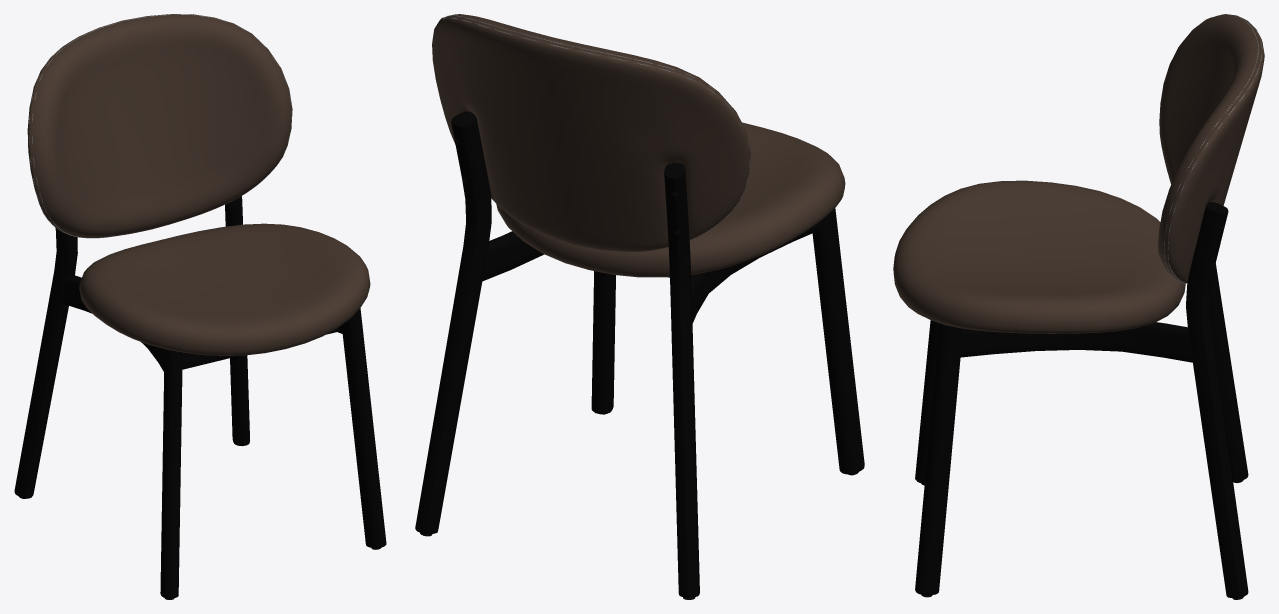
Rendered from chair1.fbx.
The picture shows the model from 3 angles, left to right: view 1: azimuth 30°, elevation 25°; view 2: azimuth 150°, elevation 25°; view 3: azimuth 270°, elevation 25°; orthographic projection. The views are drawn at different scales.
Parts seen in each view (by area): view 1: ines_seat, ines_warp, ines_spline; view 2: ines_seat, ines_warp, ines_spline; view 3: ines_seat, ines_warp.
Boxes of the visible parts, x1=… form: ines_seat: x1=27, y1=14, x2=370, y2=355; ines_warp: x1=14, y1=196, x2=386, y2=598; ines_spline: x1=29, y1=14, x2=291, y2=238; ines_seat: x1=432, y1=14, x2=845, y2=277; ines_warp: x1=415, y1=111, x2=864, y2=597; ines_spline: x1=443, y1=15, x2=749, y2=251; ines_seat: x1=893, y1=14, x2=1264, y2=333; ines_warp: x1=915, y1=202, x2=1248, y2=597.
Size of the model in its own units: 506 by 824 by 565.
